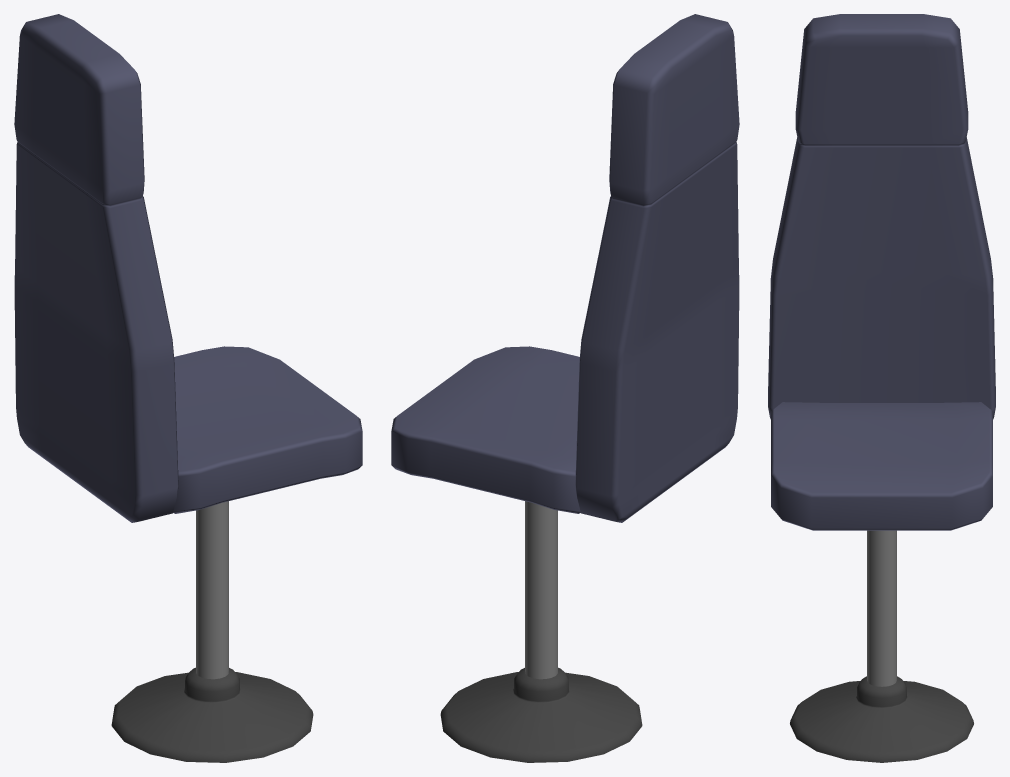
The model's file is CondChair.fbx.
3 views of the same model, side by side, from view 1: azimuth 30°, elevation 25°; view 2: azimuth 150°, elevation 25°; view 3: azimuth 270°, elevation 25° (orthographic). The views are drawn at different scales.
Visible parts, largest first — view 1: pCube59, pCube61, pCylinder24; view 2: pCube59, pCube61, pCylinder24; view 3: pCube59, pCube61, pCylinder24.
Part boxes in pixels (x1,y1,x2,y2): pCube59: [14, 14, 178, 522]; pCube61: [173, 346, 362, 513]; pCylinder24: [111, 501, 313, 762]; pCube59: [575, 14, 739, 522]; pCube61: [391, 346, 580, 513]; pCylinder24: [440, 501, 642, 762]; pCube59: [768, 14, 995, 419]; pCube61: [771, 402, 992, 530]; pCylinder24: [790, 530, 973, 762].
Size of the model in its own units: 44.5 by 115 by 36.91.
